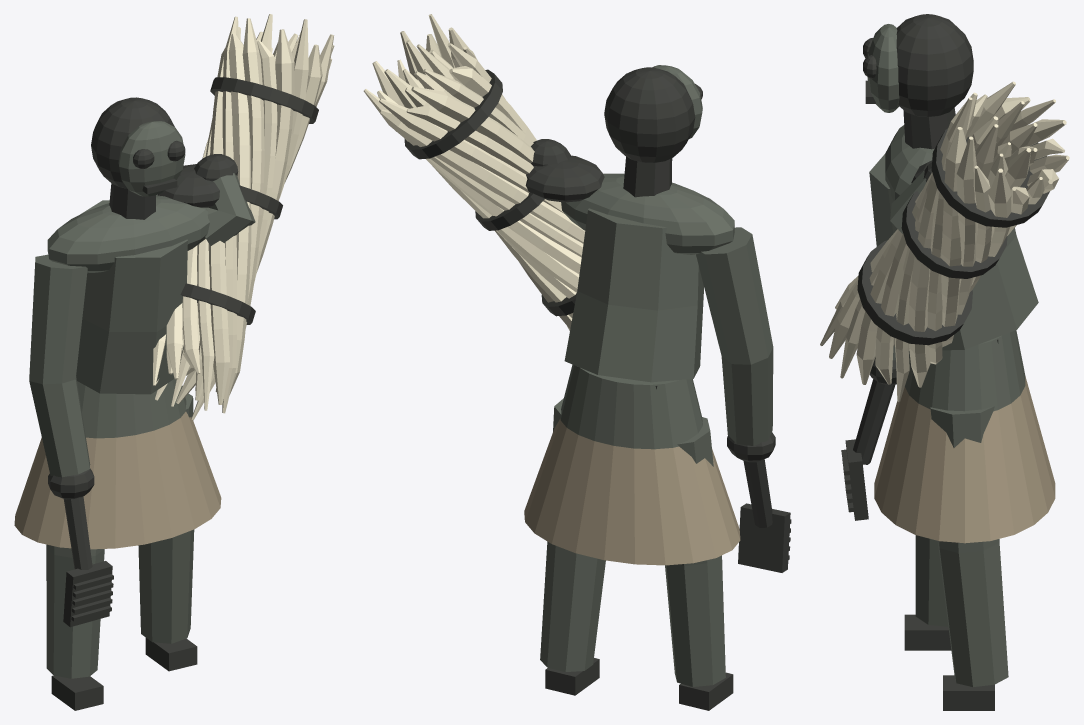
Rendered from thatcher.glb.
The picture shows the model from 3 angles, left to right: view 1: azimuth 30°, elevation 25°; view 2: azimuth 150°, elevation 25°; view 3: azimuth 270°, elevation 25°; orthographic projection. The views are drawn at different scales.
Visible parts, largest first — view 1: thatcher_body, thatcher_bone, thatcher_dark; view 2: thatcher_body, thatcher_dark, thatcher_bone; view 3: thatcher_body, thatcher_bone, thatcher_dark.
Boxes of the visible parts, bbox=[...] form: thatcher_body: bbox=[14, 121, 255, 678]; thatcher_bone: bbox=[153, 14, 334, 419]; thatcher_dark: bbox=[48, 77, 318, 710]; thatcher_body: bbox=[524, 65, 773, 686]; thatcher_dark: bbox=[404, 67, 791, 710]; thatcher_bone: bbox=[363, 14, 585, 330]; thatcher_body: bbox=[867, 24, 1055, 686]; thatcher_bone: bbox=[820, 81, 1069, 401]; thatcher_dark: bbox=[841, 14, 1049, 710].
Size of the model in its own units: 1.49 by 2.54 by 0.847.
